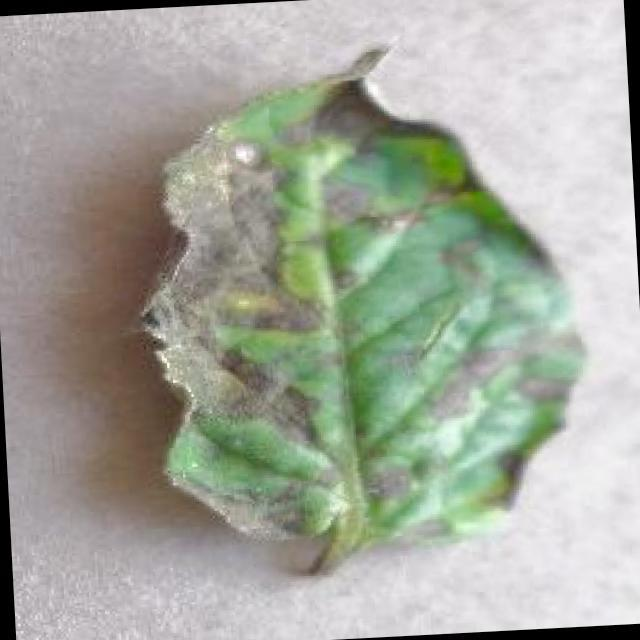Tomato Early blight leaf: (123, 36, 598, 548)
